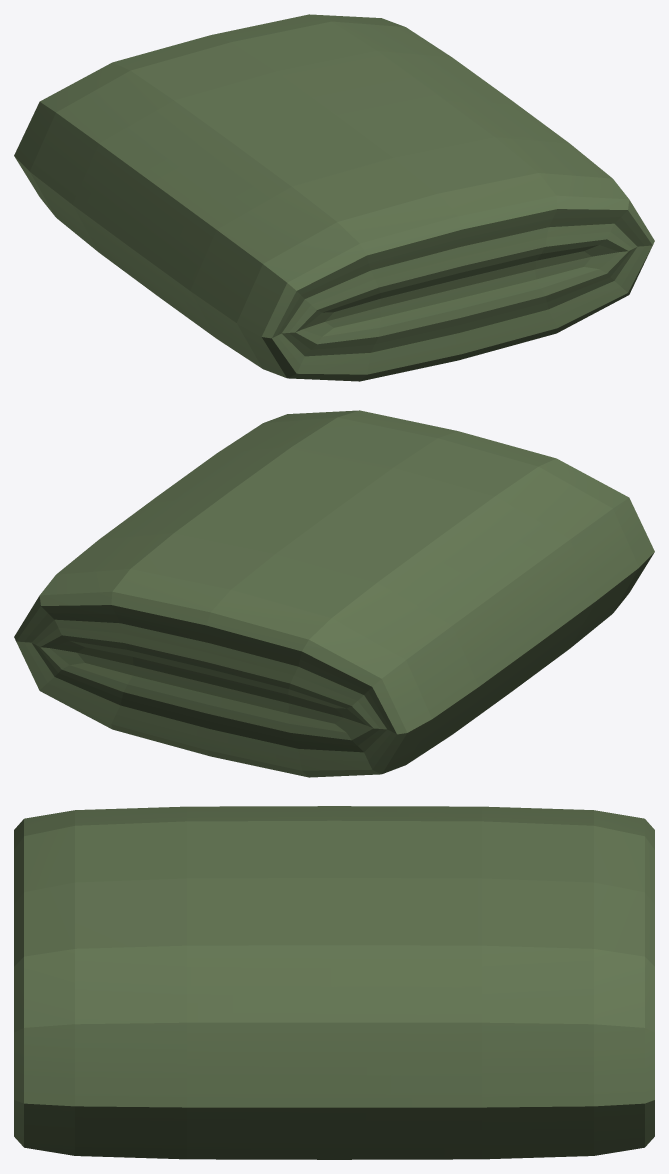
The model's file is Clothes1_C4.fbx.
3 views of the same model, one above another, from view 1: azimuth 30°, elevation 25°; view 2: azimuth 150°, elevation 25°; view 3: azimuth 270°, elevation 25° (orthographic). The views are drawn at different scales.
Parts seen in each view (by area): view 1: Clothes1_C4; view 2: Clothes1_C4; view 3: Clothes1_C4.
Boxes of the visible parts, left/top/right/bottom form: Clothes1_C4: left=14, top=14, right=654, bottom=381; Clothes1_C4: left=14, top=410, right=654, bottom=777; Clothes1_C4: left=14, top=806, right=654, bottom=1159.
Bounding box in the file's own units: 21.86 × 8.52 × 23.8.
